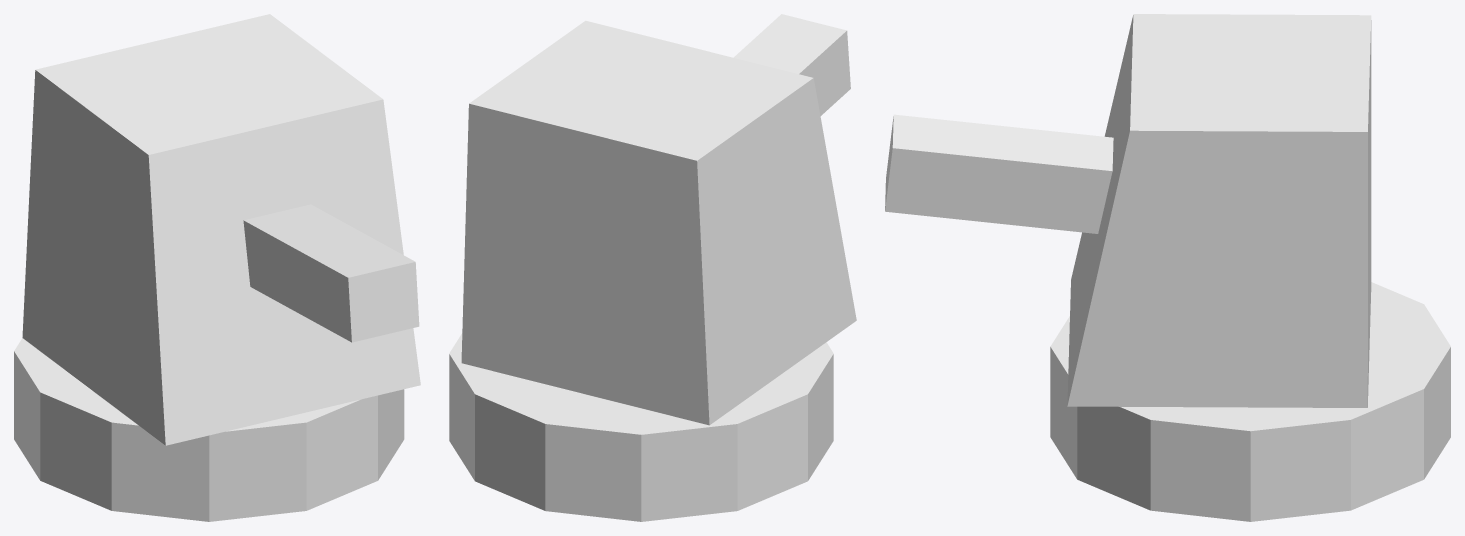
File: Weapon3.fbx
3 renders of one model, left to right at view 1: azimuth 30°, elevation 25°; view 2: azimuth 150°, elevation 25°; view 3: azimuth 270°, elevation 25°, orthographic. The views are drawn at different scales.
Visible parts, largest first — view 1: Weapon3.001; view 2: Weapon3.001; view 3: Weapon3.001.
Part boxes in pixels (x1=…): Weapon3.001: x1=14, y1=14, x2=420, y2=521; Weapon3.001: x1=449, y1=14, x2=856, y2=521; Weapon3.001: x1=885, y1=14, x2=1450, y2=521.
Size of the model in its own units: 80 by 80.3 by 113.
